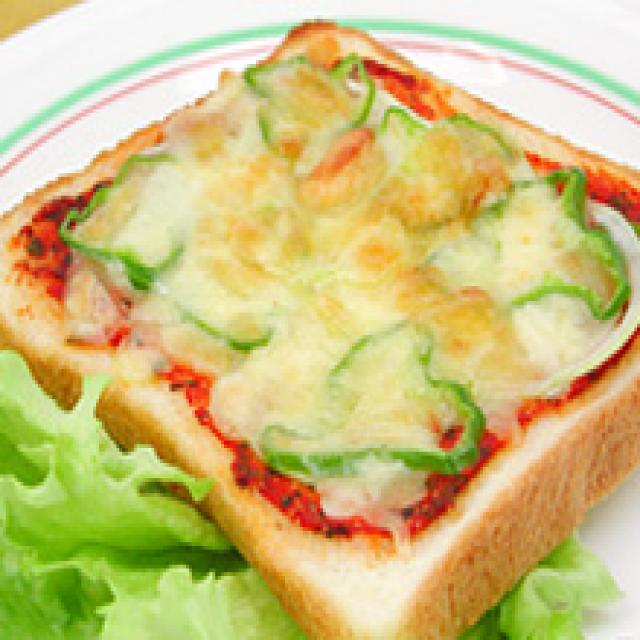面包点心: (9, 15, 634, 633)
